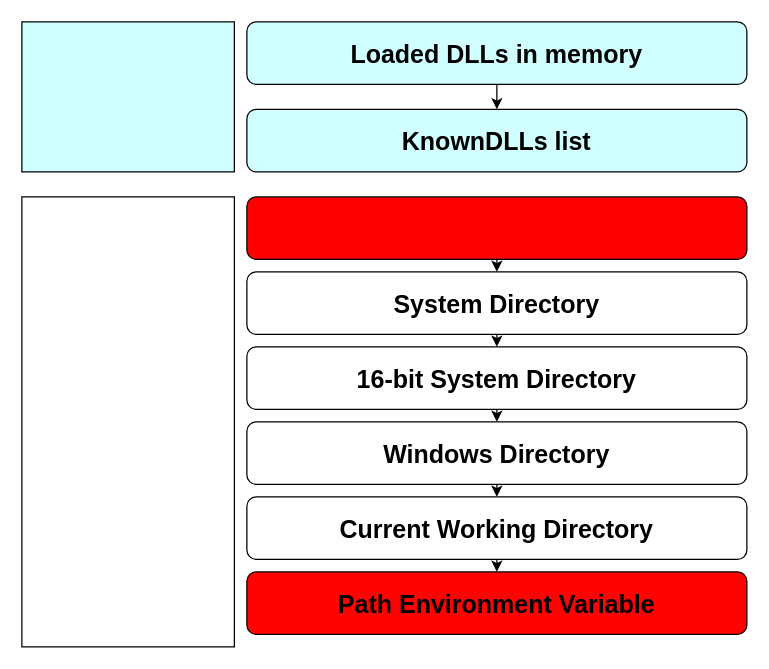
This 769x669 diagram has some shape labels left out. Each missing label, with the centre of its shape:
"Application Directory" goes at (x=496, y=227).
"Pre-Search" goes at (x=127, y=96).
"Search Order" goes at (x=127, y=421).
